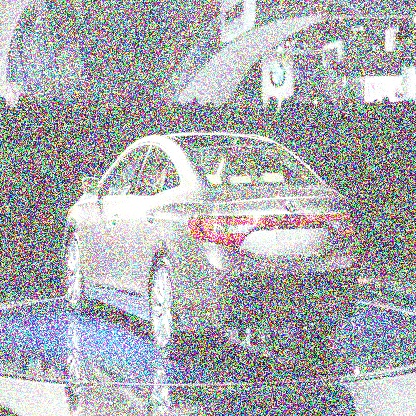Vehicle: (61, 132, 358, 358)
